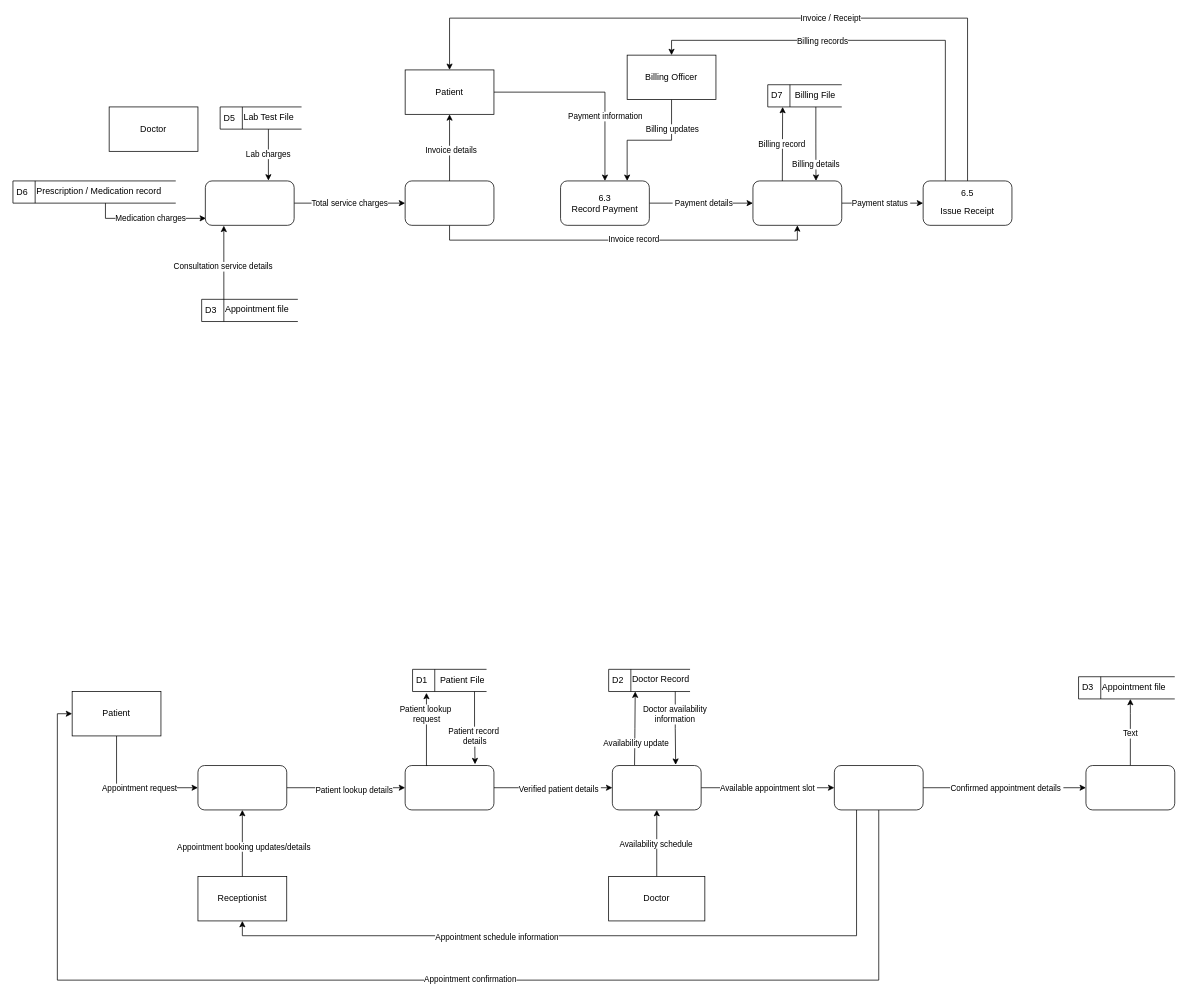
The diagram is 1188 pixels wide and 999 high, and some of its shapes have lost their labels. The centre of each missing label's shape, as x and y in pixels:
2.1 Receive Appointment Request: point 242,787
2.2 Receive Appointment Request: point 449,787
2.3 Check Doctor Availability: point 656,787
2.4 Confirm Appointment: point 878,787
2.5 Update Appointment Record: point 1130,787
6.1 Collect Service Charges: point 249,202
6.2 Generate Invoice: point 449,202
6.4 Update Billing Record: point 797,202
